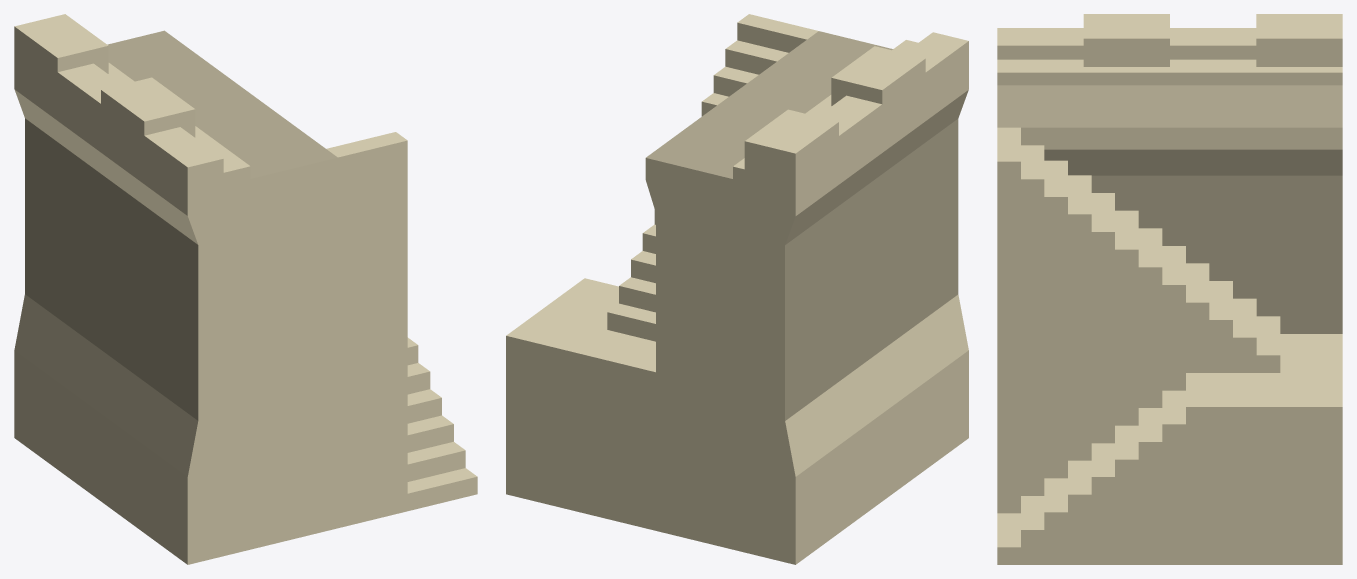
Rendered from wallNarrowStairs.fbx.
3 views of the same model, side by side, from view 1: azimuth 30°, elevation 25°; view 2: azimuth 150°, elevation 25°; view 3: azimuth 270°, elevation 25° (orthographic).
Parts seen in each view (by area): view 1: wallNarrowStairs; view 2: wallNarrowStairs; view 3: wallNarrowStairs.
Part boxes in pixels (left/top/right/bottom): wallNarrowStairs: left=14, top=14, right=477, bottom=564; wallNarrowStairs: left=506, top=14, right=968, bottom=564; wallNarrowStairs: left=997, top=14, right=1342, bottom=564.
Bounding box in the file's own units: 9.65 × 13.1 × 10.
